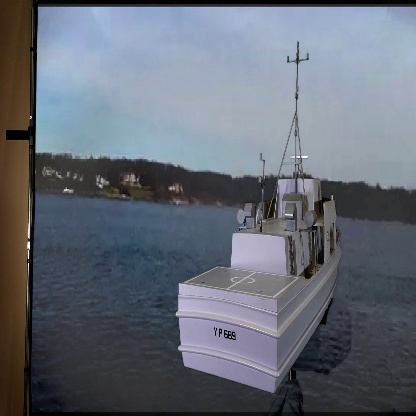YP689: (175, 40, 345, 398)
